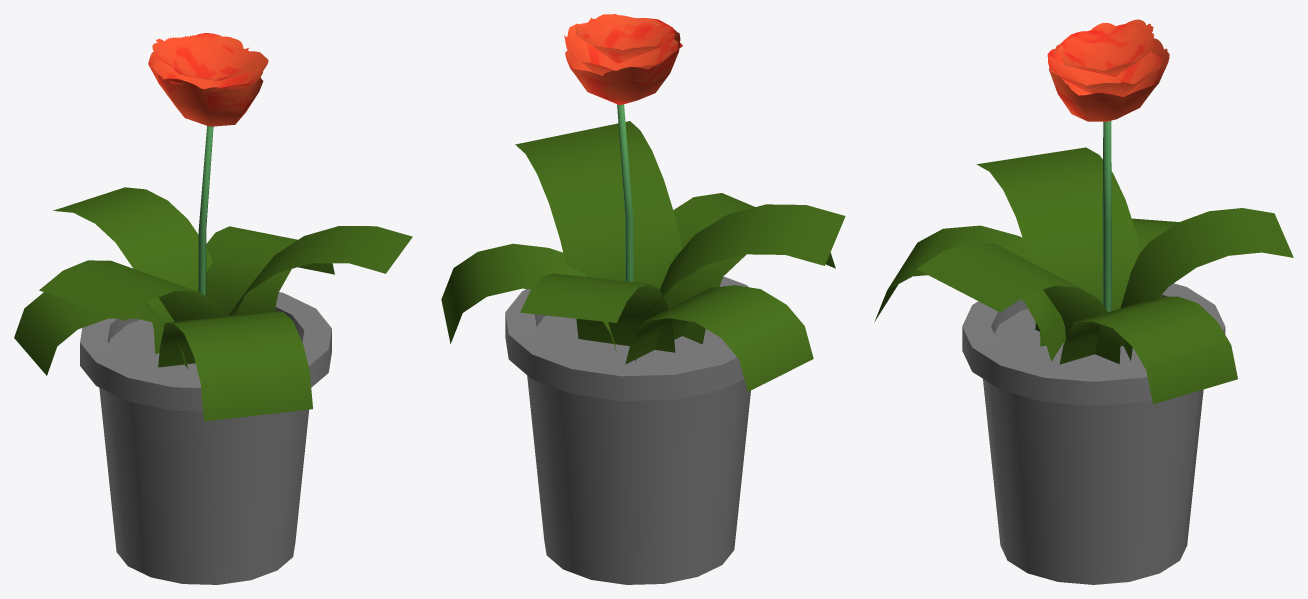
The model's file is SM_flowerpot_08.fbx.
The picture shows the model from 3 angles, left to right: view 1: azimuth 30°, elevation 25°; view 2: azimuth 150°, elevation 25°; view 3: azimuth 270°, elevation 25°; orthographic projection. The views are drawn at different scales.
Parts seen in each view (by area): view 1: Cylinder424243; view 2: Cylinder424243; view 3: Cylinder424243.
Part boxes in pixels (left/top/right/bottom): Cylinder424243: left=14, top=33, right=412, bottom=584; Cylinder424243: left=441, top=14, right=845, bottom=584; Cylinder424243: left=874, top=19, right=1293, bottom=584.
Bounding box in the file's own units: 21.24 × 30.59 × 22.42.
